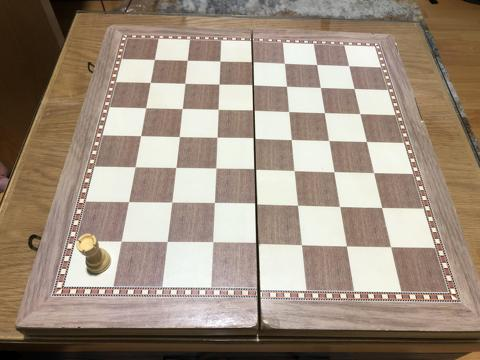xcorner: (385, 241, 398, 254), (172, 131, 185, 143), (376, 202, 389, 214), (344, 60, 356, 72), (311, 59, 323, 71), (279, 58, 291, 70), (246, 57, 258, 69), (214, 56, 226, 68), (181, 54, 193, 66), (148, 53, 160, 65), (349, 83, 361, 95), (315, 82, 327, 94), (281, 81, 293, 93), (247, 80, 259, 92), (213, 78, 225, 90), (178, 77, 190, 89), (144, 76, 156, 88), (355, 108, 367, 120), (319, 107, 331, 119), (284, 106, 296, 118), (248, 105, 260, 117), (212, 104, 224, 116), (176, 103, 188, 115), (139, 101, 151, 113), (361, 136, 373, 148), (324, 135, 336, 147), (286, 134, 298, 146), (248, 133, 260, 145), (211, 132, 223, 144), (134, 129, 146, 141), (368, 167, 380, 179), (329, 166, 341, 178), (289, 165, 301, 177), (249, 164, 261, 176), (209, 163, 221, 175), (169, 162, 181, 174), (129, 161, 141, 173), (335, 201, 347, 213), (292, 200, 304, 212), (250, 199, 262, 211), (208, 198, 220, 210), (165, 197, 177, 209), (122, 195, 134, 207), (341, 240, 353, 252), (296, 239, 308, 251), (251, 238, 263, 250), (206, 237, 218, 249), (161, 236, 173, 248), (115, 235, 127, 247)
